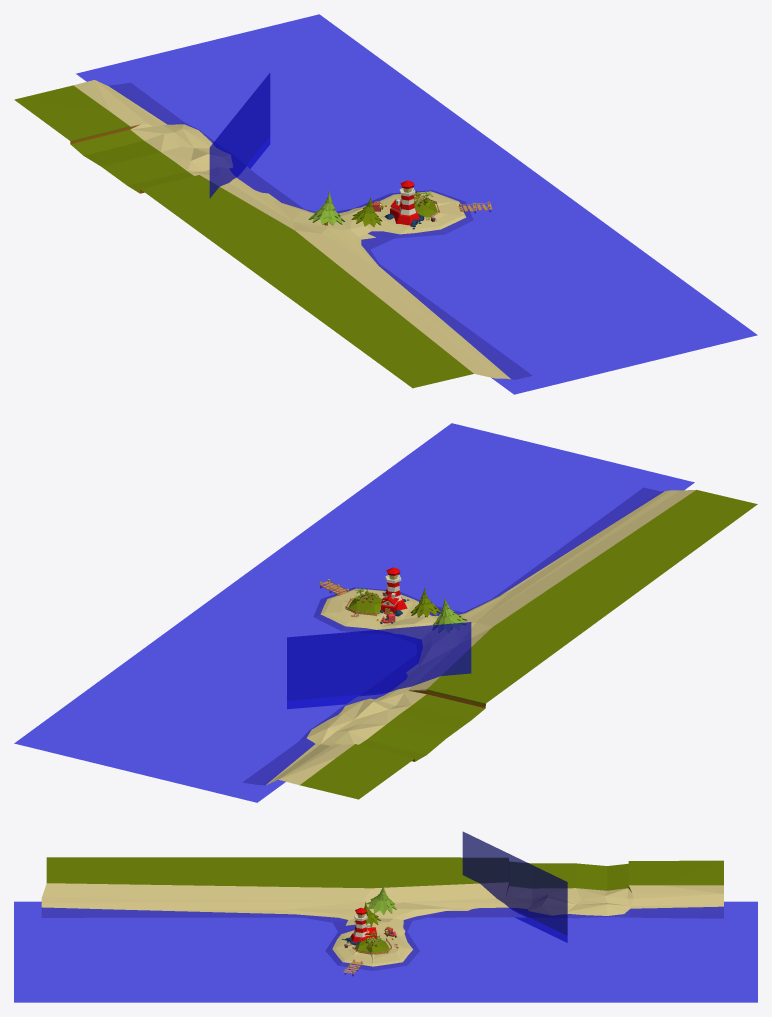
File: fruitplukVuurtorenVoorUnityXpV1Juni4.fbx
3 views of the same model, one above another, from view 1: azimuth 30°, elevation 25°; view 2: azimuth 150°, elevation 25°; view 3: azimuth 270°, elevation 25° (orthographic). The views are drawn at different scales.
Visible parts, largest first — view 1: zee_water_water, strandBos_zandGras_zandStrand_houtPalm_groen4, placeholder_canvas, vuurtoren; view 2: zee_water_water, strandBos_zandGras_zandStrand_houtPalm_groen4, placeholder_canvas; view 3: zee_water_water, strandBos_zandGras_zandStrand_houtPalm_groen4, placeholder_canvas, vuurtoren, bos_den4_bladPalm_houtPalm1.
Boxes of the visible parts, x1=… form: zee_water_water: x1=76, y1=14, x2=757, y2=394; strandBos_zandGras_zandStrand_houtPalm_groen4: x1=14, y1=80, x2=532, y2=388; placeholder_canvas: x1=209, y1=73, x2=270, y2=198; vuurtoren: x1=394, y1=180, x2=419, y2=225; zee_water_water: x1=14, y1=423, x2=694, y2=802; strandBos_zandGras_zandStrand_houtPalm_groen4: x1=243, y1=488, x2=757, y2=799; placeholder_canvas: x1=287, y1=622, x2=471, y2=708; zee_water_water: x1=14, y1=901, x2=757, y2=1002; strandBos_zandGras_zandStrand_houtPalm_groen4: x1=41, y1=857, x2=723, y2=970; placeholder_canvas: x1=462, y1=831, x2=567, y2=941; vuurtoren: x1=350, y1=907, x2=367, y2=942; bos_den4_bladPalm_houtPalm1: x1=366, y1=884, x2=396, y2=915.
Size of the model in its own units: 392 by 82.84 by 914.
